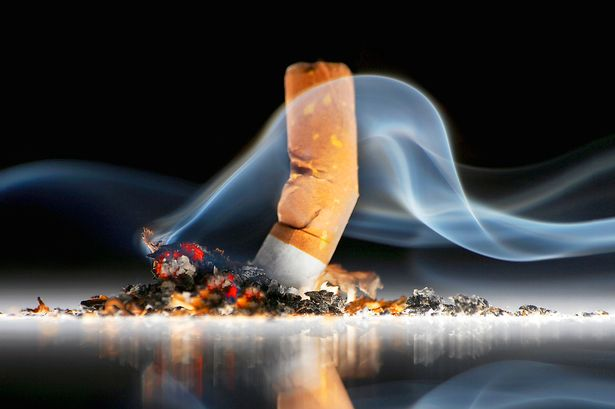cigarette: (223, 59, 383, 325)
